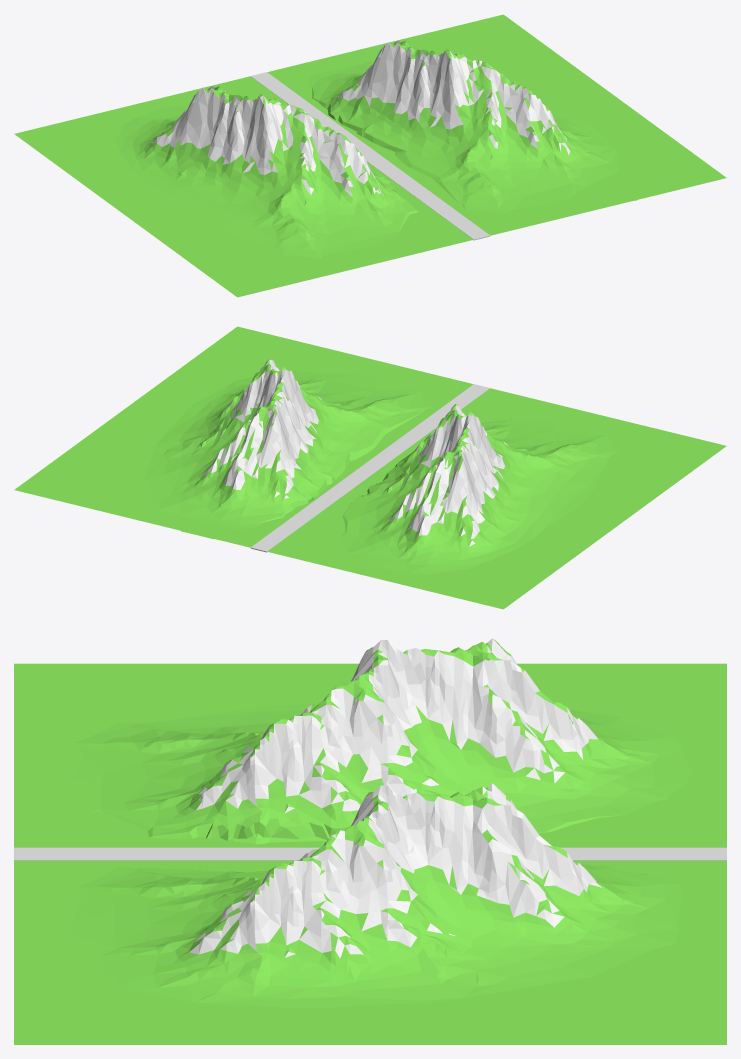
The picture shows the model from 3 angles, top to bottom: view 1: azimuth 30°, elevation 25°; view 2: azimuth 150°, elevation 25°; view 3: azimuth 270°, elevation 25°; orthographic projection. The views are drawn at different scales.
Visible parts, largest first — view 1: Plane.001, Plane.003, Plane.002; view 2: Plane.001, Plane.003, Plane.002; view 3: Plane.001, Plane.003, Plane.002.
Part boxes in pixels (left/top/right/bottom): Plane.001: left=115, top=40, right=636, bottom=258; Plane.003: left=14, top=14, right=726, bottom=297; Plane.002: left=251, top=72, right=490, bottom=240; Plane.001: left=143, top=359, right=617, bottom=573; Plane.003: left=14, top=326, right=726, bottom=609; Plane.002: left=250, top=384, right=489, bottom=552; Plane.001: left=70, top=638, right=691, bottom=1008; Plane.003: left=14, top=663, right=726, bottom=1044; Plane.002: left=14, top=847, right=726, bottom=860.
Bounding box in the file's own units: 29753 × 5149 × 23520.
